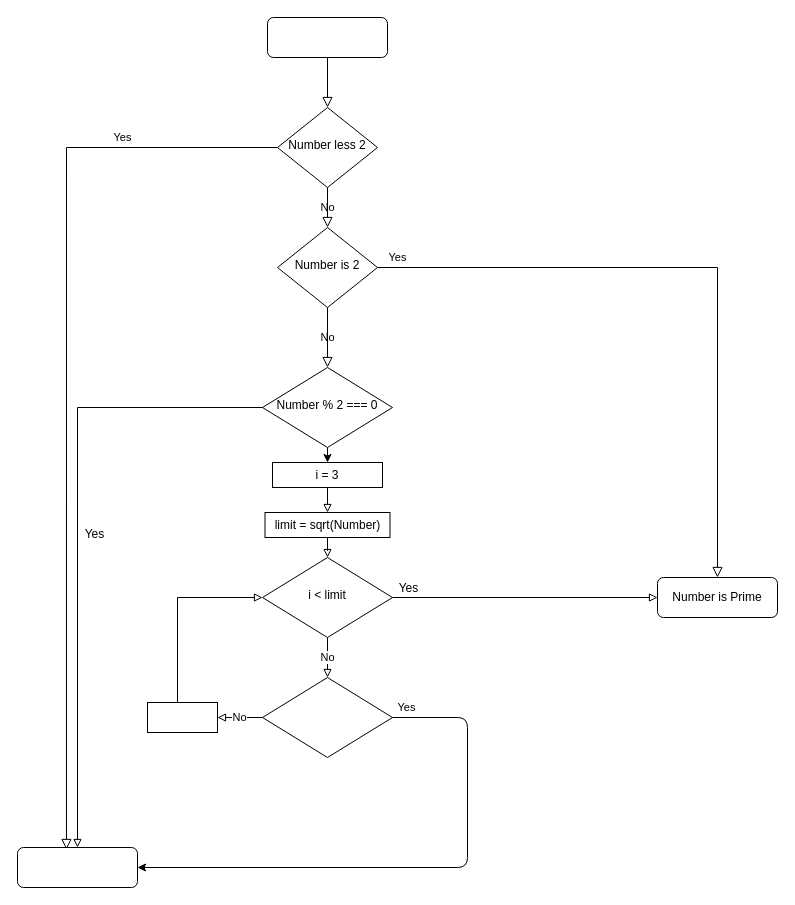
Some shapes in this 795 by 905 pixel diagram are drawn without their labels. The shapes that lost their labels are listed below. From the top down, each one's centre as x and y in pixels, then its label:
(x=327, y=37): Start
(x=182, y=717): i += 1
(x=327, y=717): Number % i == 0
(x=77, y=867): Number not Prime
